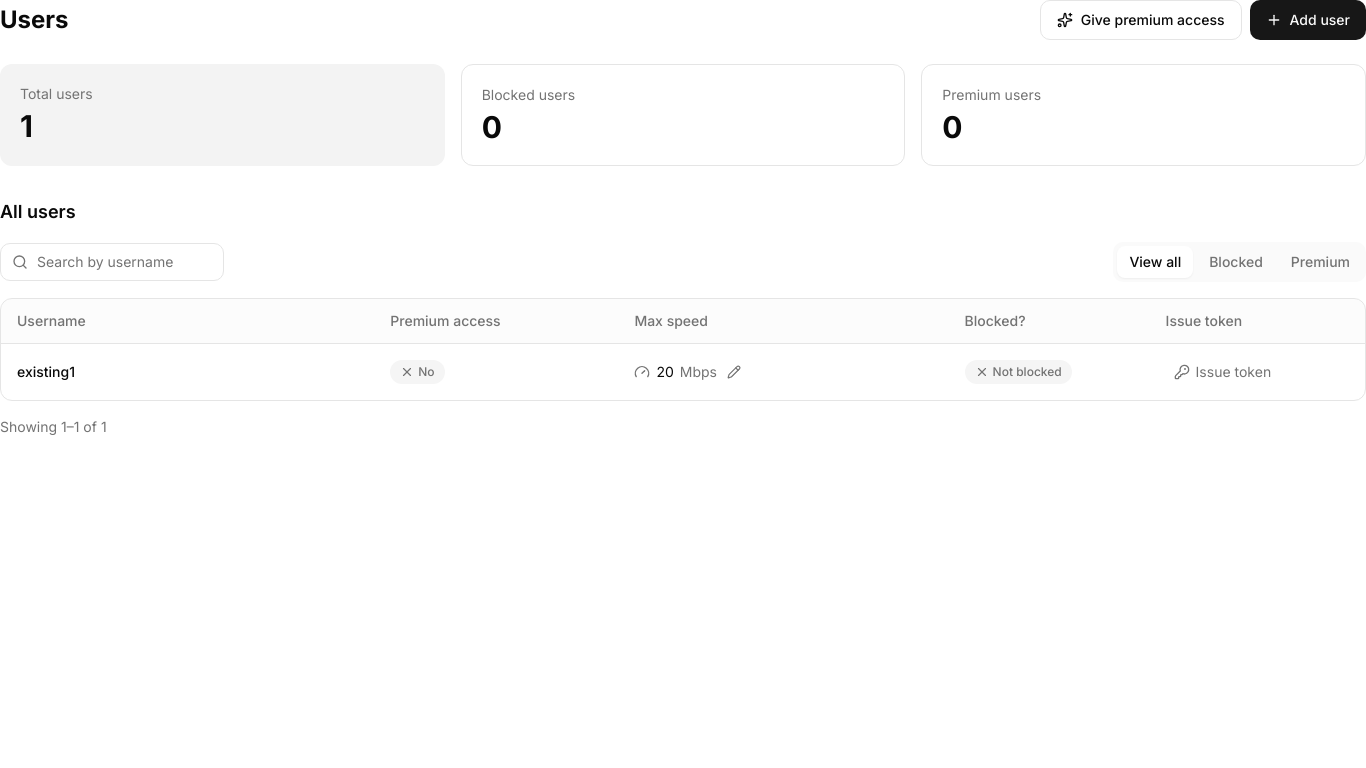
Test: Users page — issue a new token › closes without issuing when cancelled
Click the button with aria-label "issue a new token for existing1" at [1222, 372], box [1166,356,1279,388]
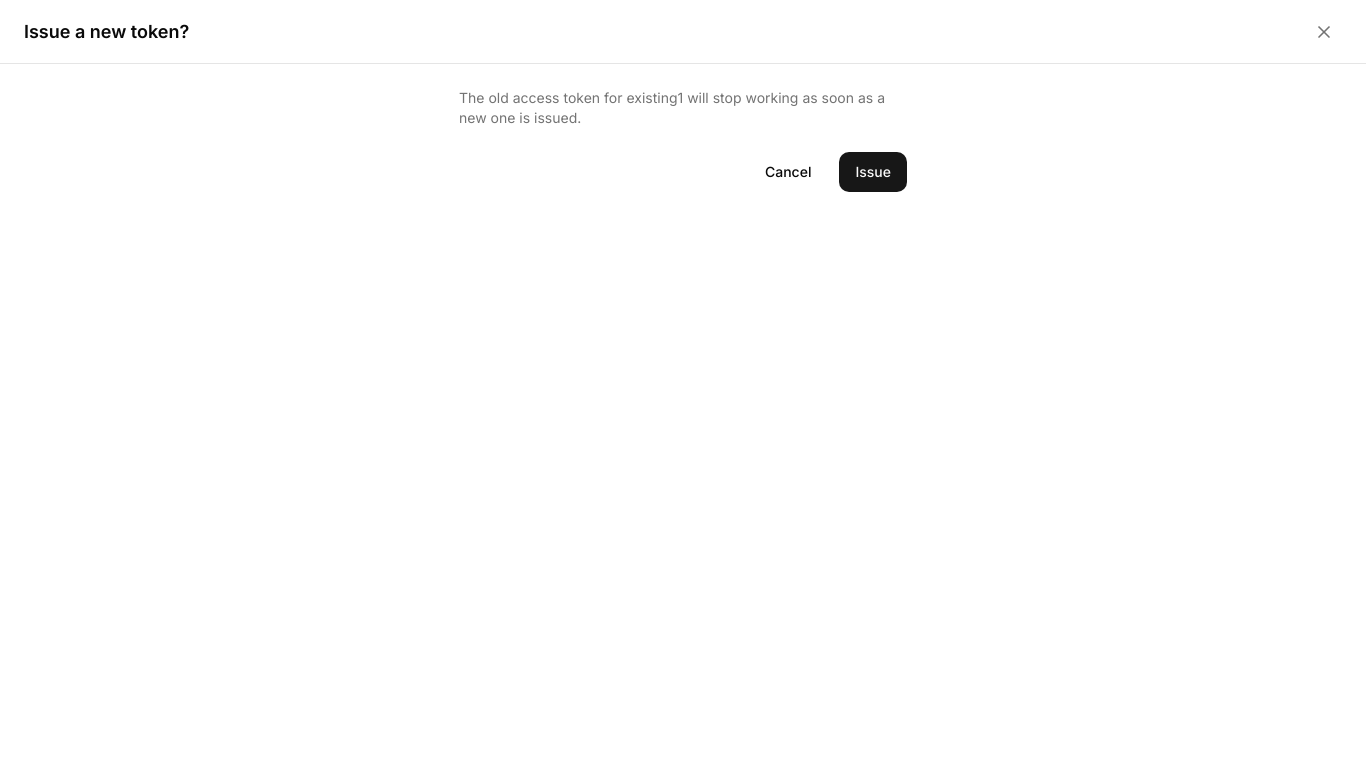
Click the button "Cancel" at [788, 172], box [749,152,828,192]
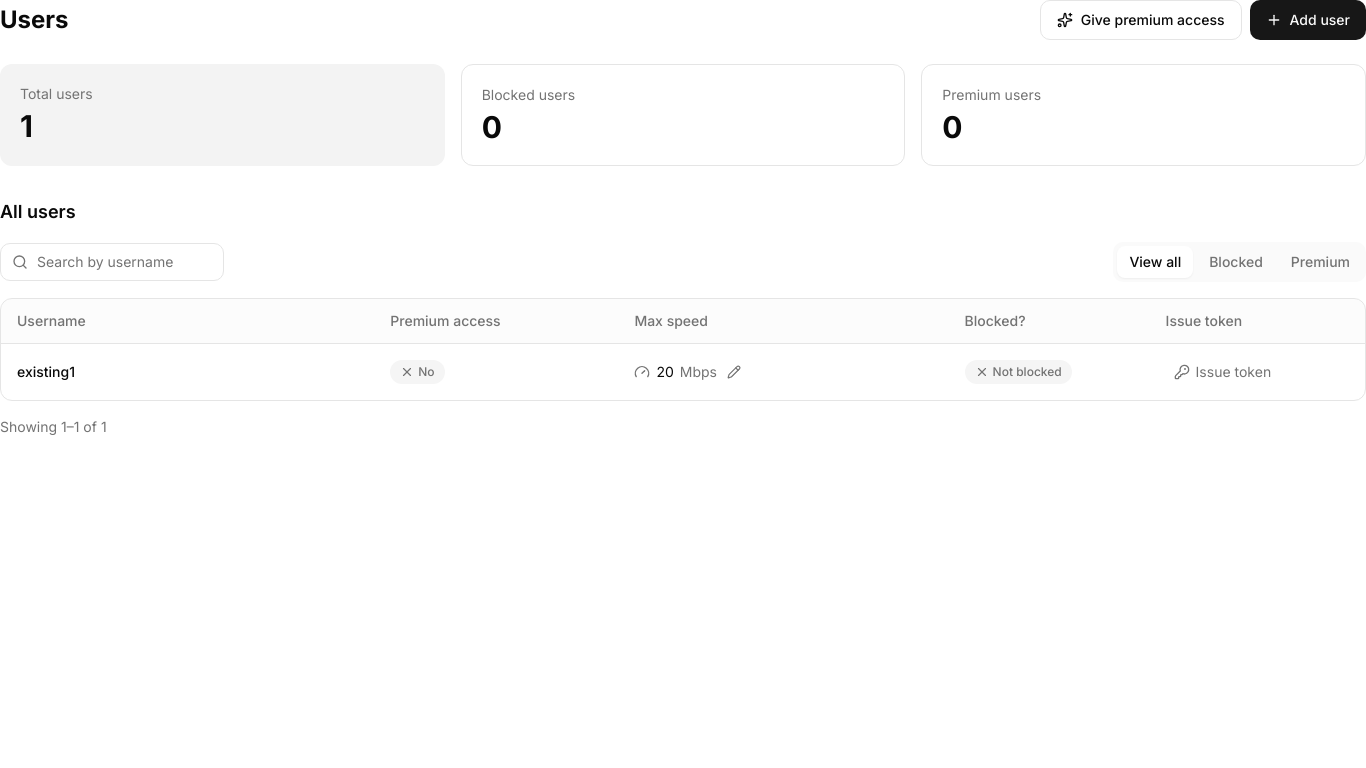
Check: the text "old access token for existing1 will stop working" is gone
